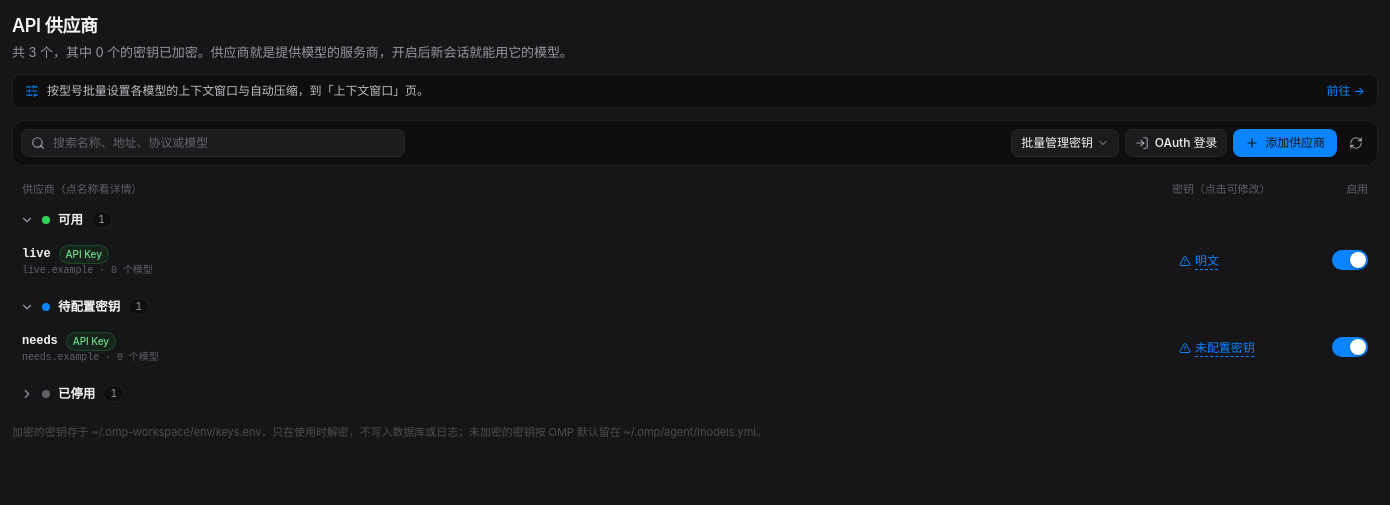
it: status groups › folds disabled providers by default and reveals them on header click
The width and height of the screenshot is (1390, 505).
expect the text "供应商（点名称看详情）" is shown: met, box [22, 182, 142, 196]
expect the text "live" is shown: met, box [22, 246, 50, 262]
Click the button "已停用 1": [77, 394] box [12, 379, 1378, 408]
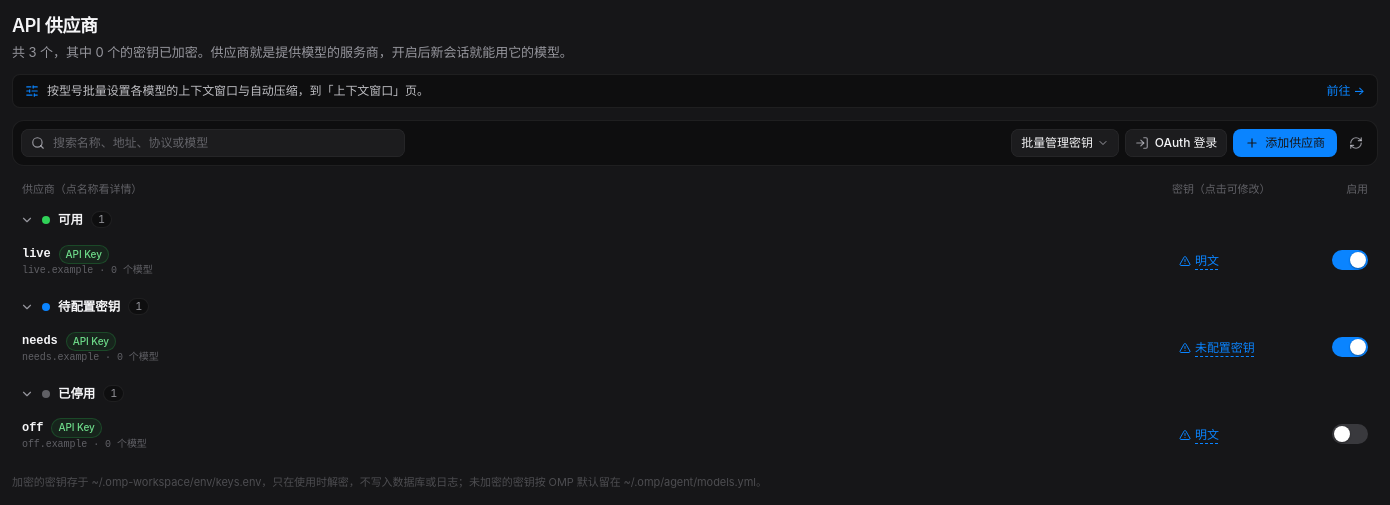
expect the text "off" is shown: met, box [22, 420, 43, 436]
Click the button "已停用 1": [77, 394] box [12, 379, 1378, 408]
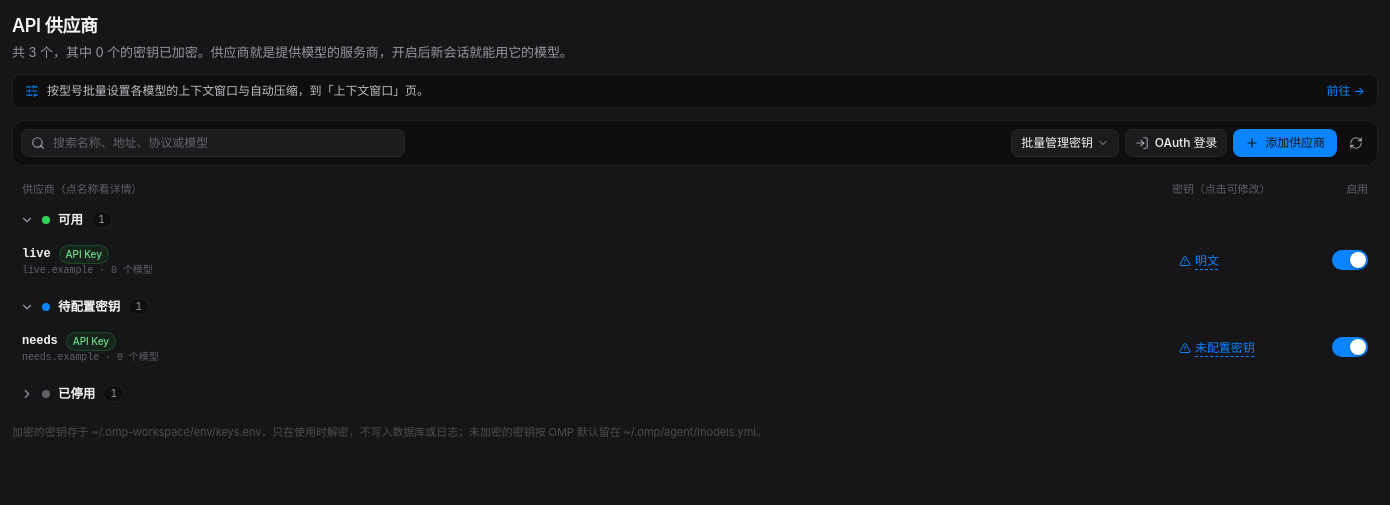
expect the button "off" is gone: met
